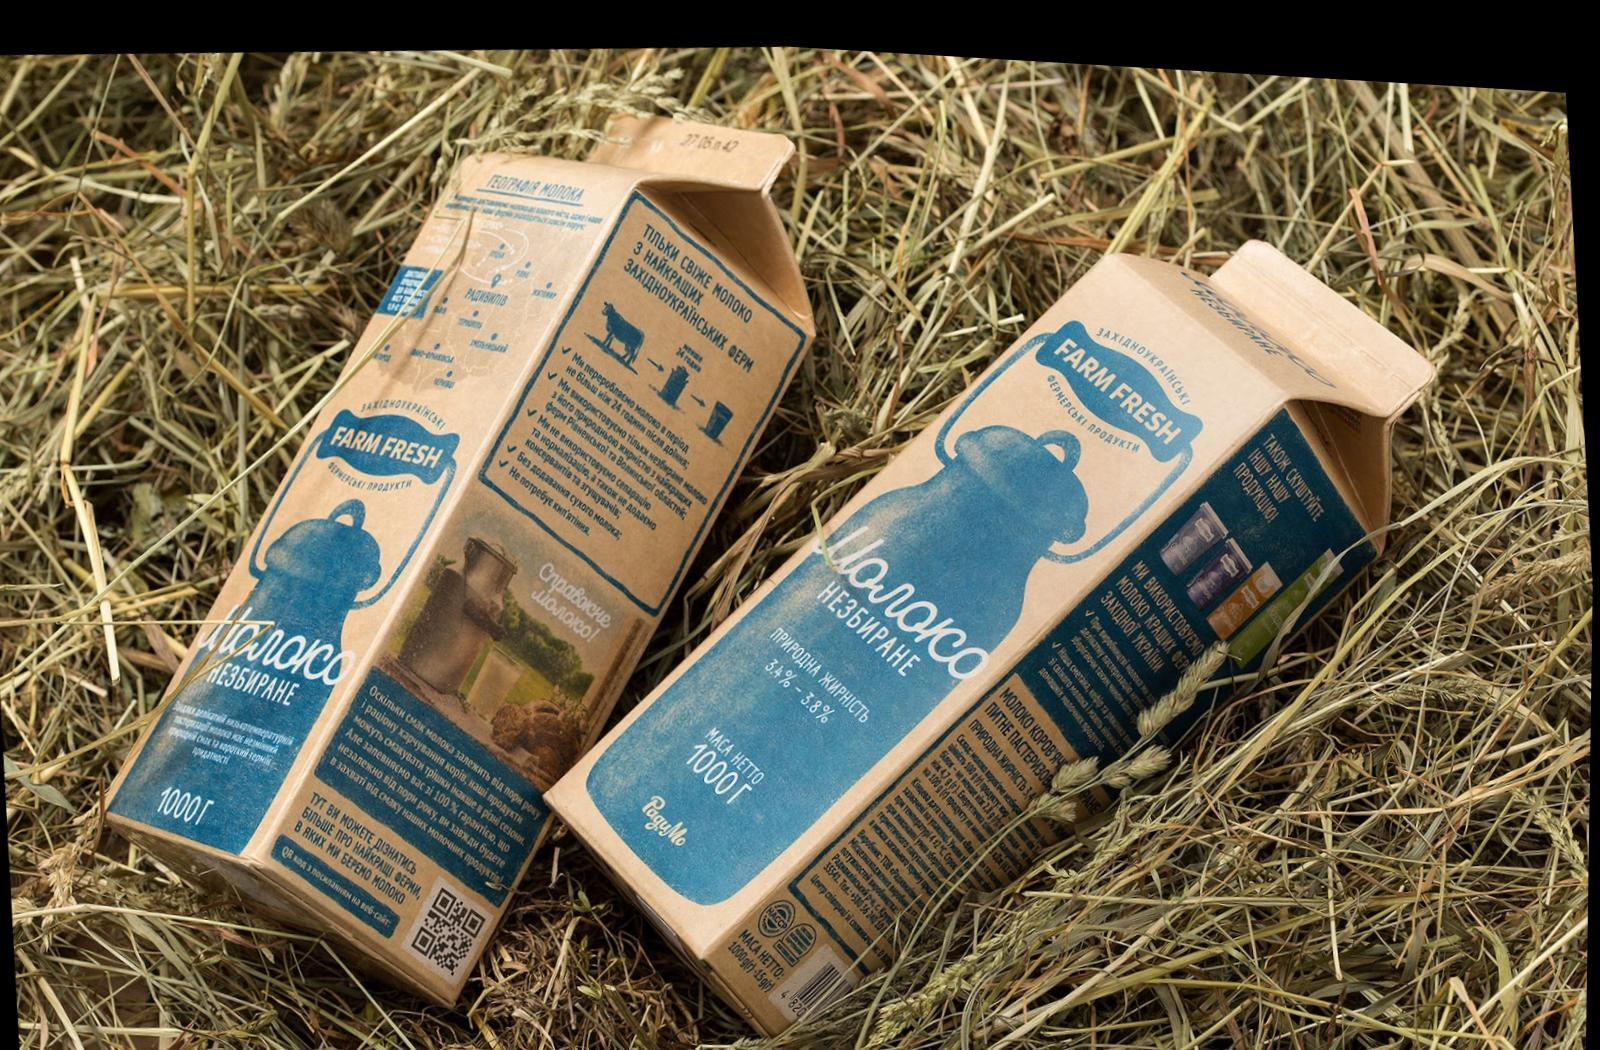cardboard: (533, 187, 1479, 1050), (56, 55, 859, 1046)
